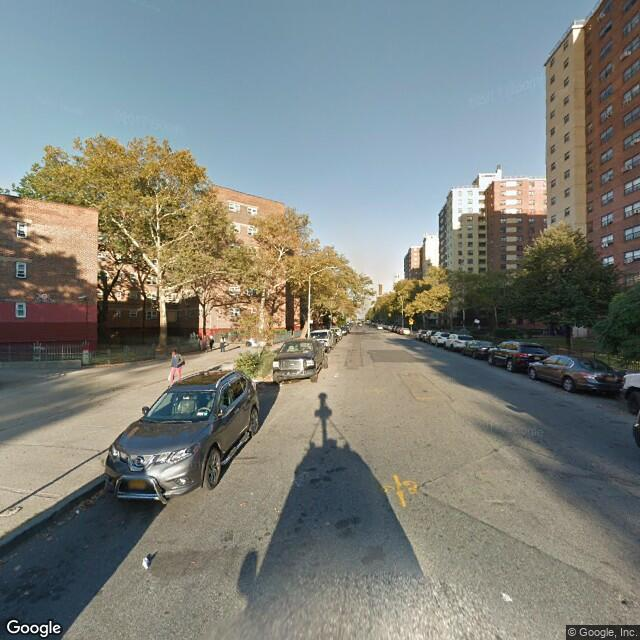litter: (135, 552, 160, 574)
